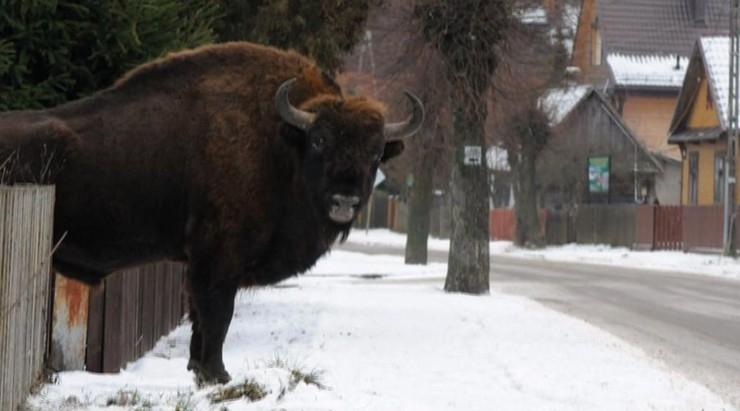zubr: (9, 28, 431, 411)
